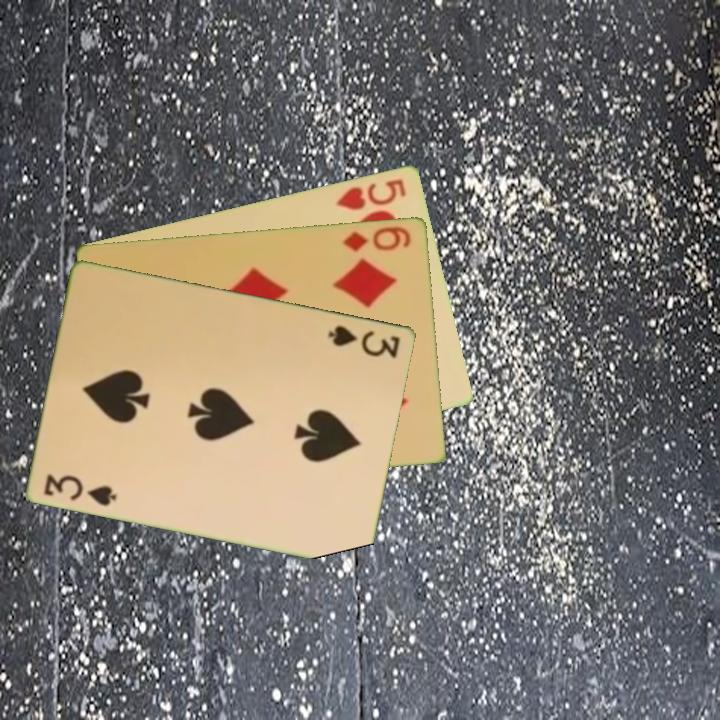3s: (325, 322, 404, 361), (41, 470, 120, 509)
5h: (332, 174, 409, 213)
6d: (339, 222, 414, 254)
